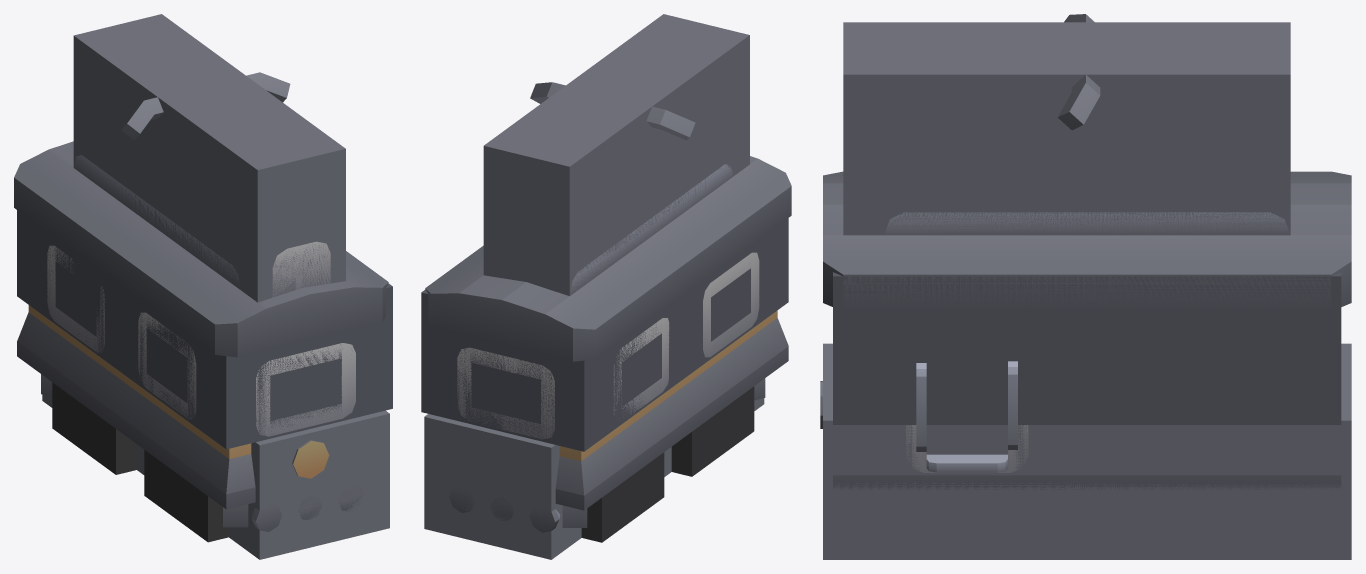
Rendered from tram.classic.glb.
The picture shows the model from 3 angles, left to right: view 1: azimuth 30°, elevation 25°; view 2: azimuth 150°, elevation 25°; view 3: azimuth 270°, elevation 25°; orthographic projection. The views are drawn at different scales.
Parts seen in each view (by area): view 1: far, near; view 2: far, near; view 3: far, near.
Part boxes in pixels (x1,y1,x2,y2): far: (17, 14, 392, 559); near: (14, 72, 388, 542); far: (421, 14, 788, 559); near: (425, 82, 791, 542); far: (823, 22, 1351, 559); near: (820, 14, 1351, 491).
Bounding box in the file's own units: 2.3 × 4.64 × 4.81.
